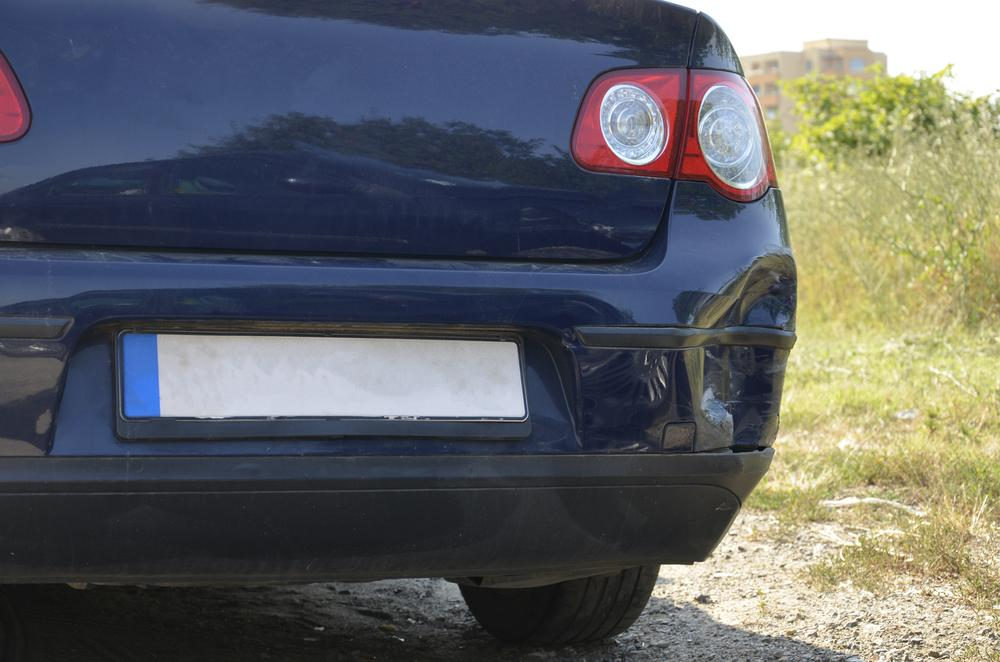dent: (685, 253, 798, 445)
